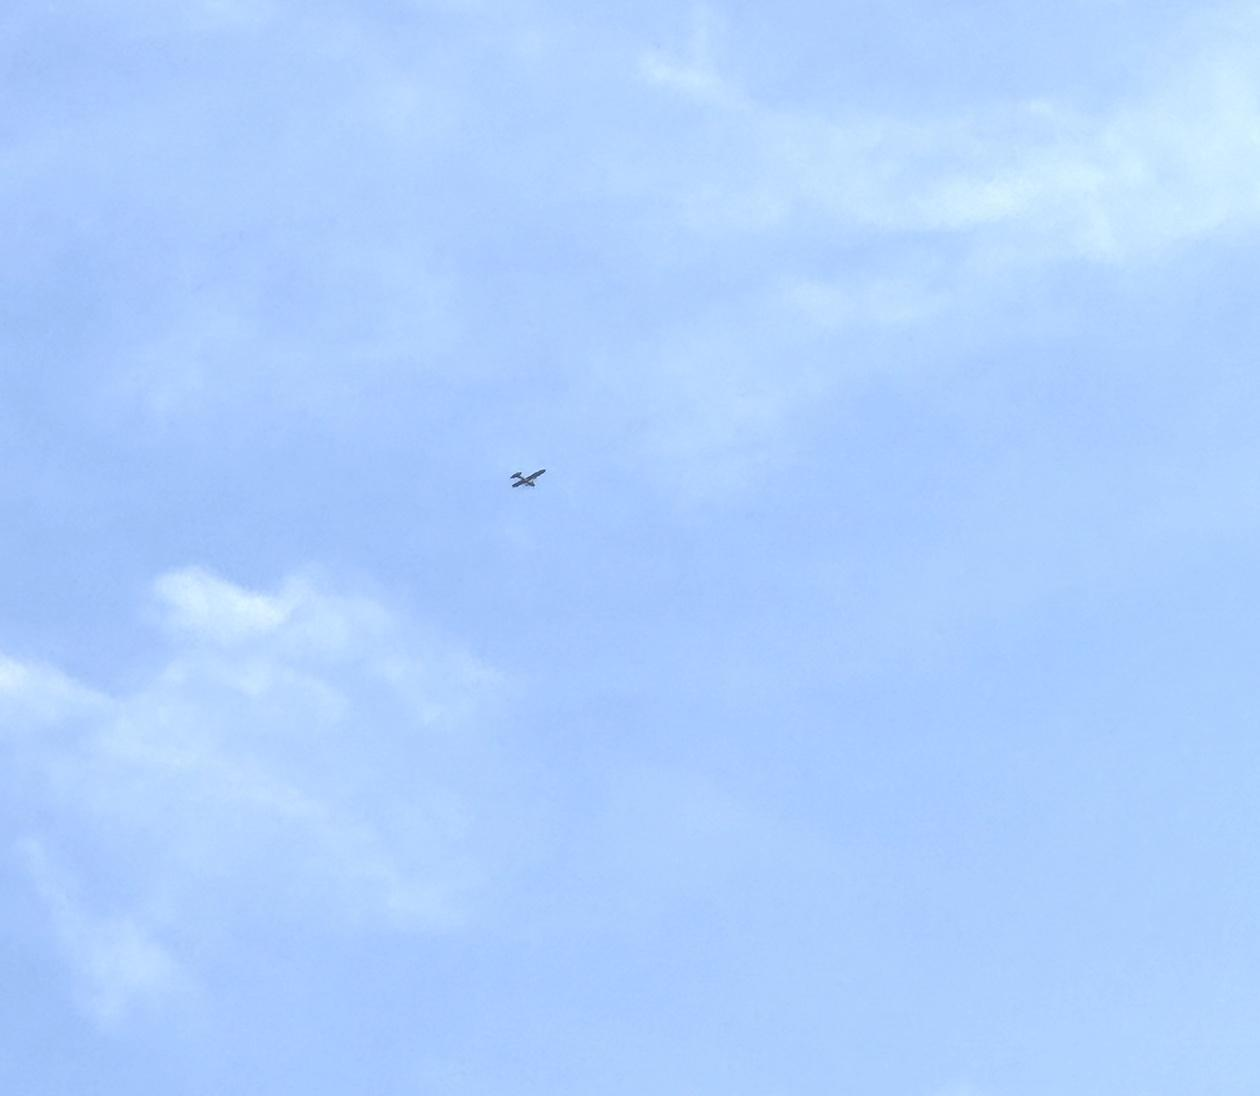Plane: (489, 451, 566, 504)
